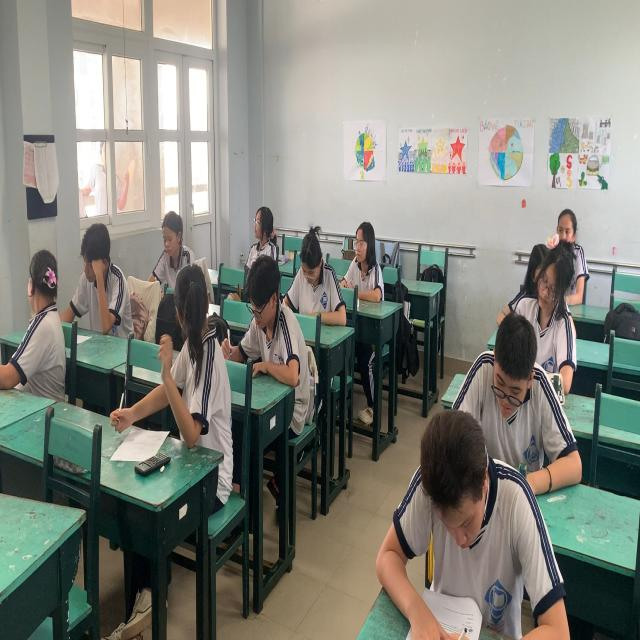cheating: (0, 173, 124, 395)
not_cheating: (378, 428, 586, 596), (140, 272, 250, 510), (450, 307, 570, 511), (218, 256, 316, 455), (49, 177, 141, 358), (504, 251, 580, 427), (271, 214, 358, 366), (321, 185, 406, 334), (133, 185, 219, 328), (230, 186, 311, 325), (548, 192, 588, 372)
